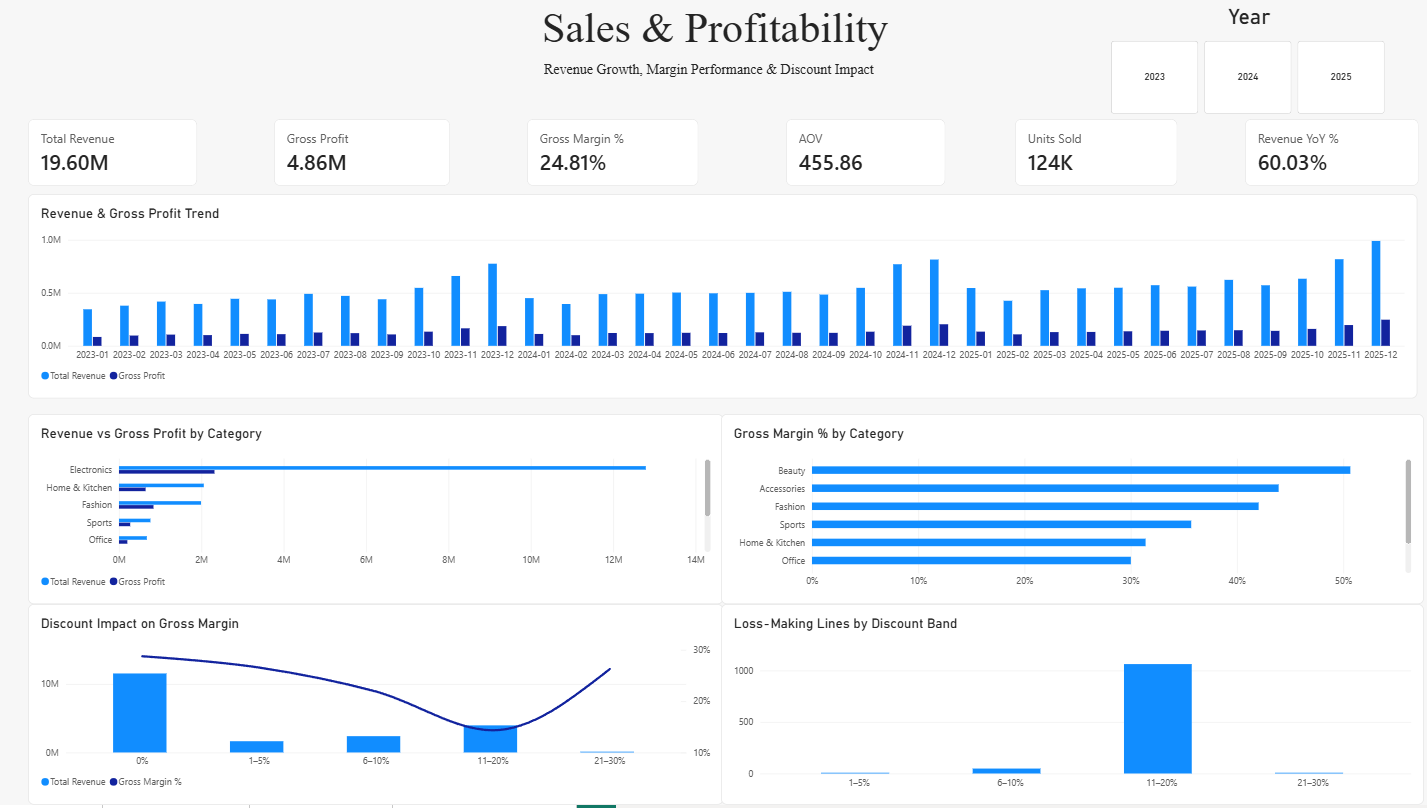

What the dashboard file says about the page in this screenshot:
{"tool":"powerbi","page":{"name":"Sales & Profitability","canvas":[1920,1080],"ordinal":1},"visuals":[{"type":"textbox","box":[722.2,14.6,475.6,75.9],"z":0},{"type":"textbox","box":[725.1,90.5,472.7,56.9],"z":1000},{"type":"advancedSlicerVisual","fields":{"Values":["DateTable.Year"]},"box":[1479.4,14.6,366.9,146.2],"z":2000},{"type":"cardVisual","fields":{"Data":["_Measures.Total Revenue"]},"box":[38.8,167.3,225.6,89.6],"z":3000},{"type":"cardVisual","fields":{"Data":["_Measures.Gross Profit"]},"box":[366.1,167.3,234.6,89.6],"z":4000},{"type":"cardVisual","fields":{"Data":["_Measures.Gross Margin %"]},"box":[702.3,167.3,228.6,89.6],"z":5000},{"type":"cardVisual","fields":{"Data":["_Measures.Revenue YoY %"]},"box":[1657,167.3,231.6,89.6],"z":6000},{"type":"cardVisual","fields":{"Data":["_Measures.Units Sold"]},"box":[1350.7,167.3,216.7,89.6],"z":7000},{"type":"cardVisual","fields":{"Data":["_Measures.AOV"]},"box":[1047.4,167.3,212.2,89.6],"z":8000},{"type":"lineClusteredColumnComboChart","title":"Revenue & Gross Profit Trend","fields":{"Category":["DateTable.Year Month"],"Y":["_Measures.Total Revenue","_Measures.Gross Profit"]},"box":[38.8,267.5,1848.3,271.9],"z":9000},{"type":"clusteredBarChart","title":"Revenue vs Gross Profit by Category","fields":{"Category":["products.category"],"Y":["_Measures.Total Revenue","_Measures.Gross Profit"]},"box":[38.8,560.3,924.9,252.5],"z":10000},{"type":"barChart","title":"Gross Margin % by Category","fields":{"Category":["products.category"],"Y":["_Measures.Gross Margin %"]},"box":[960.7,560.3,935.3,252.5],"z":11000},{"type":"lineClusteredColumnComboChart","title":"Discount Impact on Gross Margin","fields":{"Category":["order_items.Discount Band"],"Y":["_Measures.Total Revenue"],"Y2":["_Measures.Gross Margin %"]},"box":[38.8,812.8,924.9,267.5],"z":12000},{"type":"columnChart","title":"Loss-Making Lines by Discount Band","fields":{"Category":["order_items.Discount Band"],"Y":["_Measures.Loss-Making Lines"]},"box":[960.7,812.8,935.3,267.5],"z":13000}]}

Visuals, with their boxes in screenshot pixels (x1, y1, x2, y2), scaled from the page's 1920x1080 canvas onto the 1427x808 screenshot:
textbox: left=537, top=11, right=890, bottom=68
textbox: left=539, top=68, right=890, bottom=110
advancedSlicerVisual - DateTable.Year: left=1100, top=11, right=1372, bottom=120
cardVisual - _Measures.Total Revenue: left=29, top=125, right=197, bottom=192
cardVisual - _Measures.Gross Profit: left=272, top=125, right=446, bottom=192
cardVisual - _Measures.Gross Margin %: left=522, top=125, right=692, bottom=192
cardVisual - _Measures.Revenue YoY %: left=1232, top=125, right=1404, bottom=192
cardVisual - _Measures.Units Sold: left=1004, top=125, right=1165, bottom=192
cardVisual - _Measures.AOV: left=778, top=125, right=936, bottom=192
"Revenue & Gross Profit Trend" lineClusteredColumnComboChart: left=29, top=200, right=1403, bottom=404
"Revenue vs Gross Profit by Category" clusteredBarChart: left=29, top=419, right=716, bottom=608
"Gross Margin % by Category" barChart: left=714, top=419, right=1409, bottom=608
"Discount Impact on Gross Margin" lineClusteredColumnComboChart: left=29, top=608, right=716, bottom=807
"Loss-Making Lines by Discount Band" columnChart: left=714, top=608, right=1409, bottom=807
